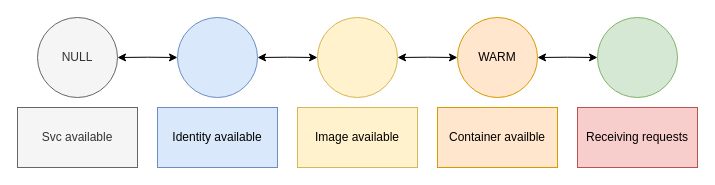
This 715x185 diagram has some shape labels left out. Here are the shapes that lost their labels. From the top down, the centre of each, then its label:
[217,57]: COLD
[357,57]: WARM DISK
[637,57]: ACTIVE
